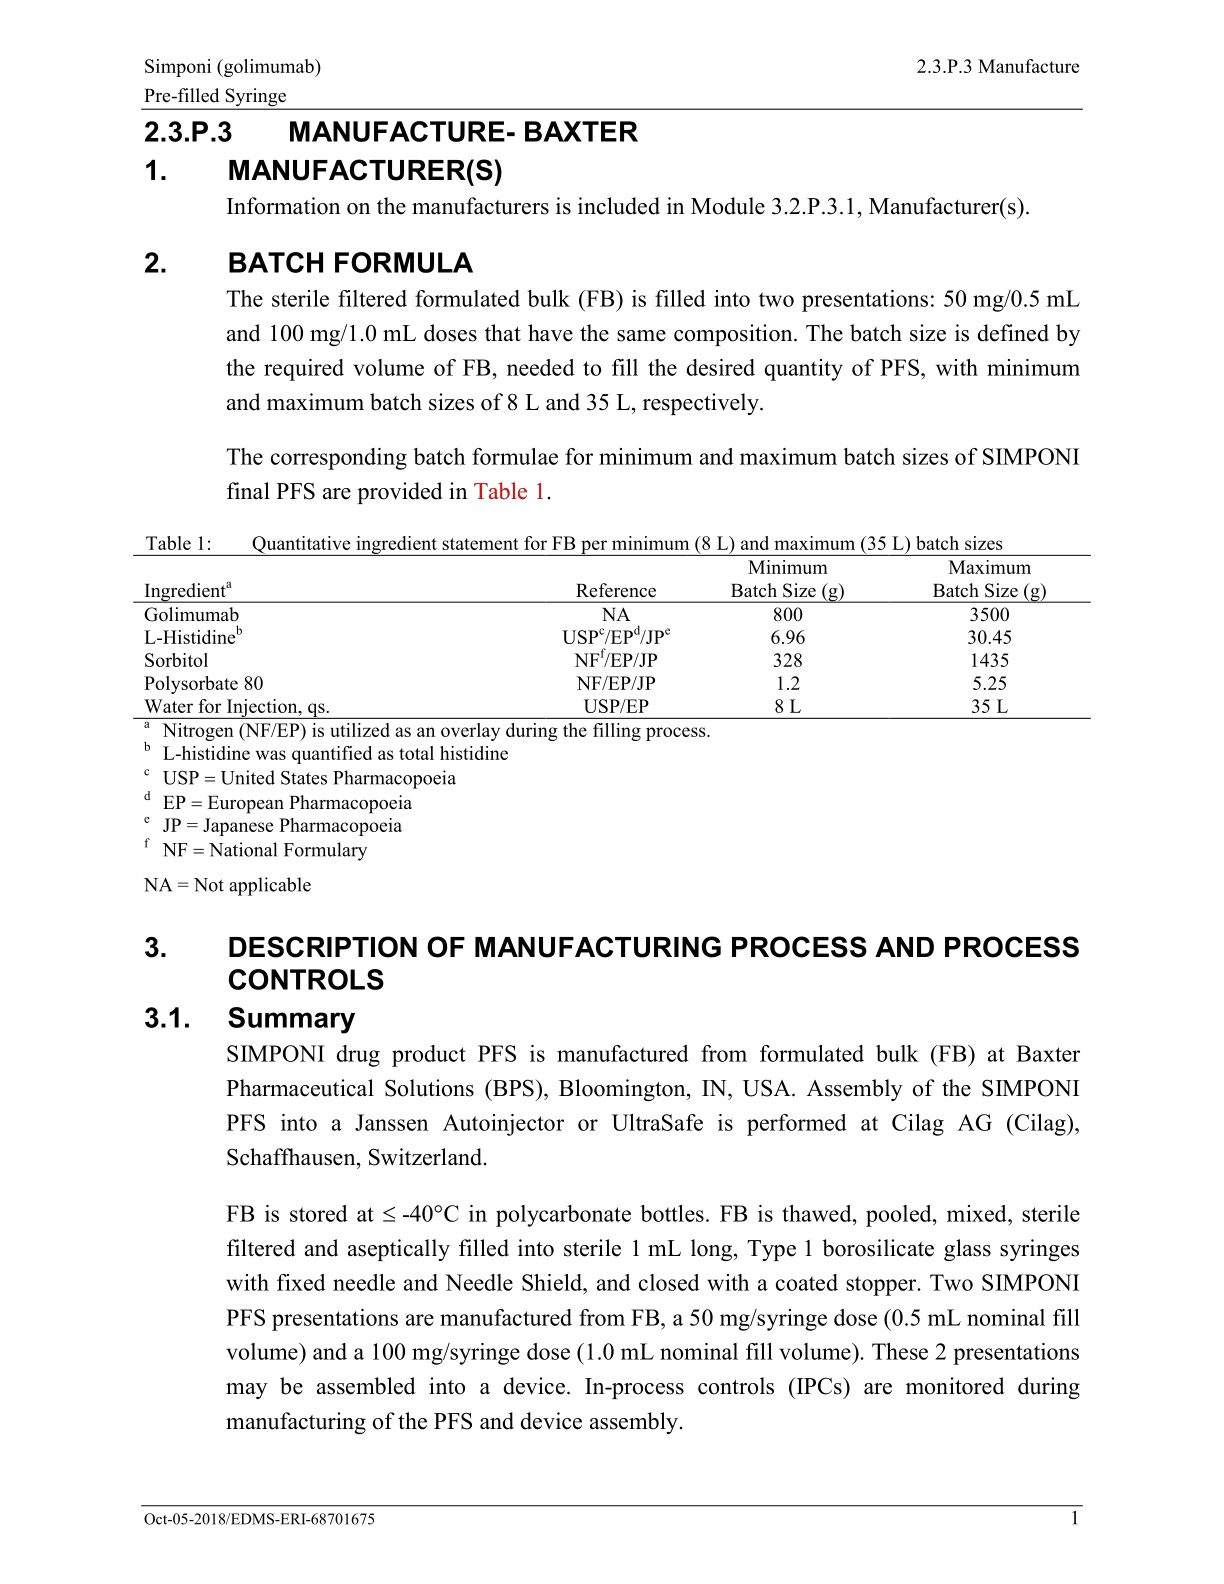partial_lined: (132, 554, 1090, 720)
